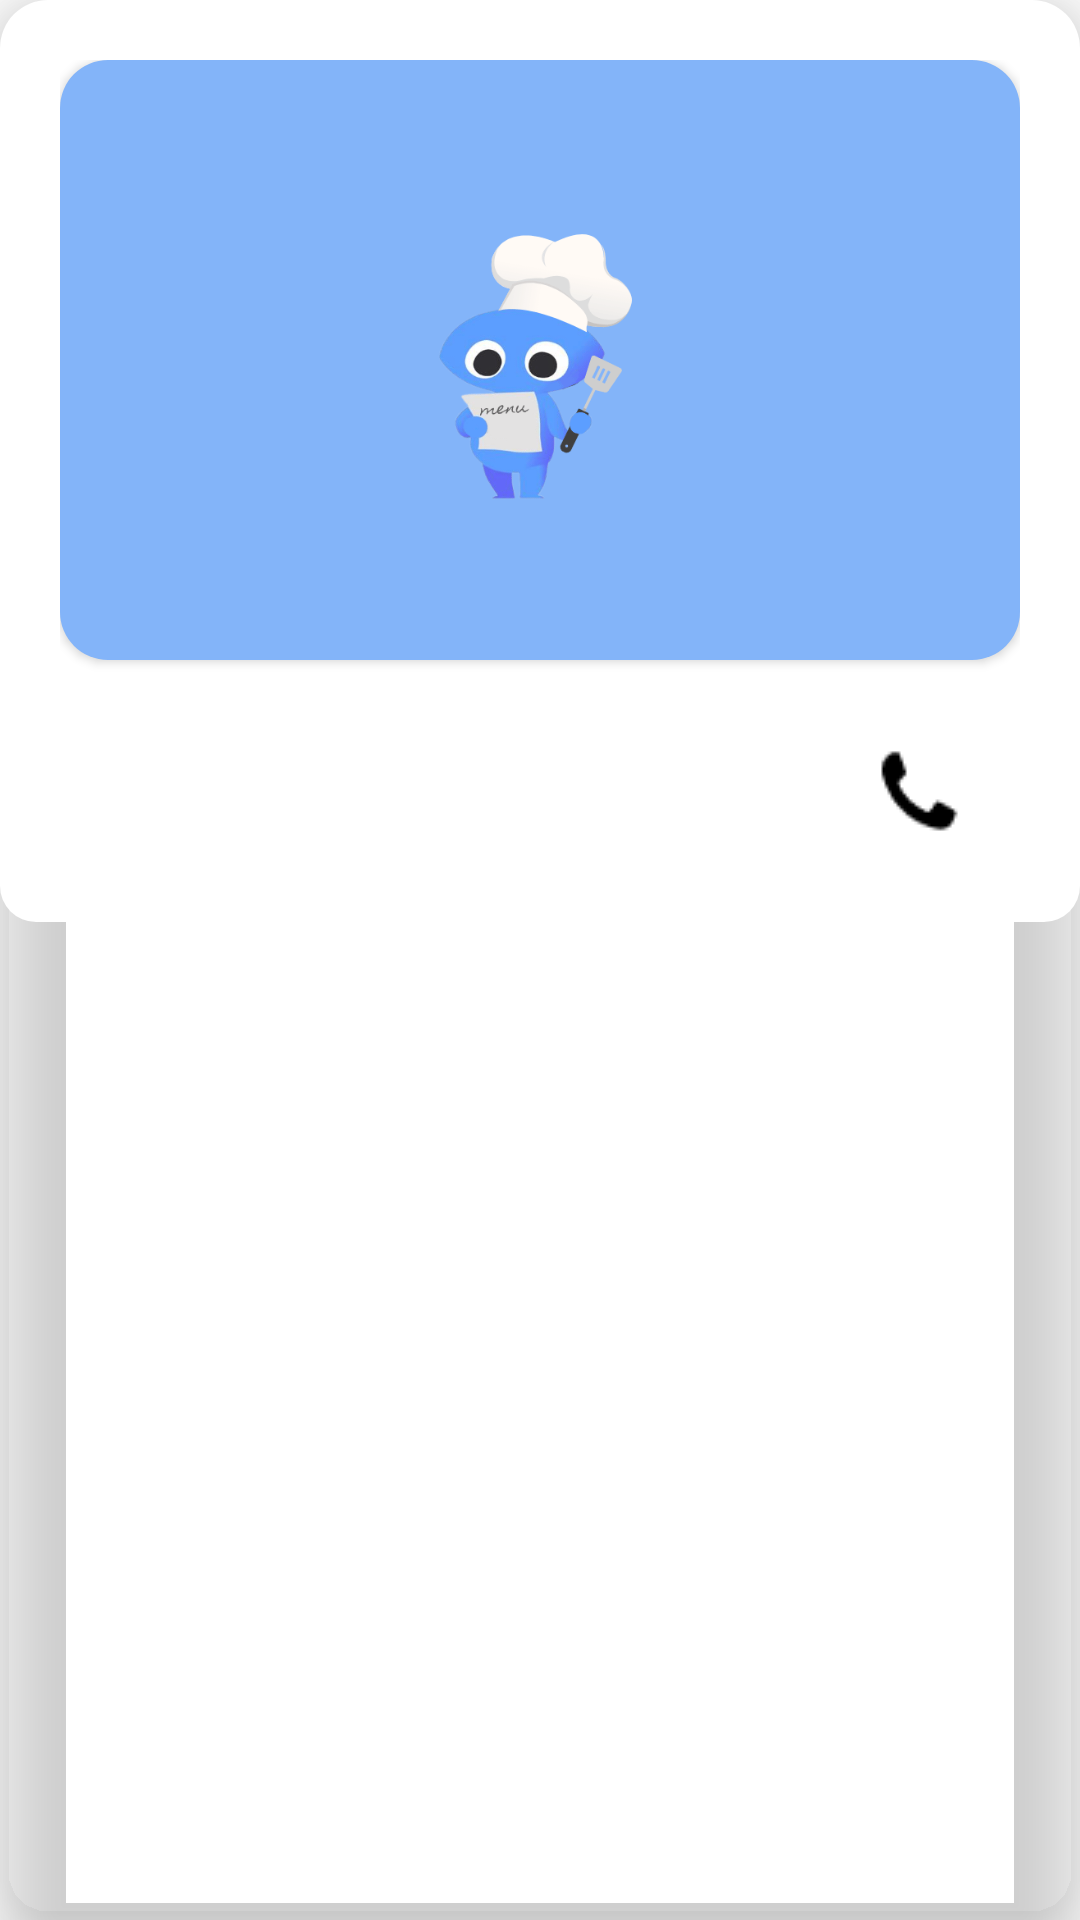

Icon click points for this 1080 x 1920 phone screenshot, format (x,y):
call: (919,791)
